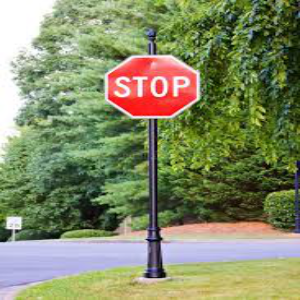STOP_SIGN: (104, 55, 200, 119)
